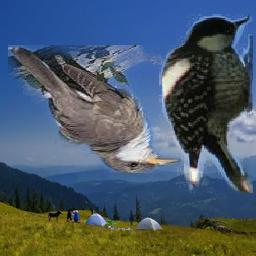Cuckoo: (9, 45, 182, 173)
Woodpecker: (159, 15, 253, 194)
